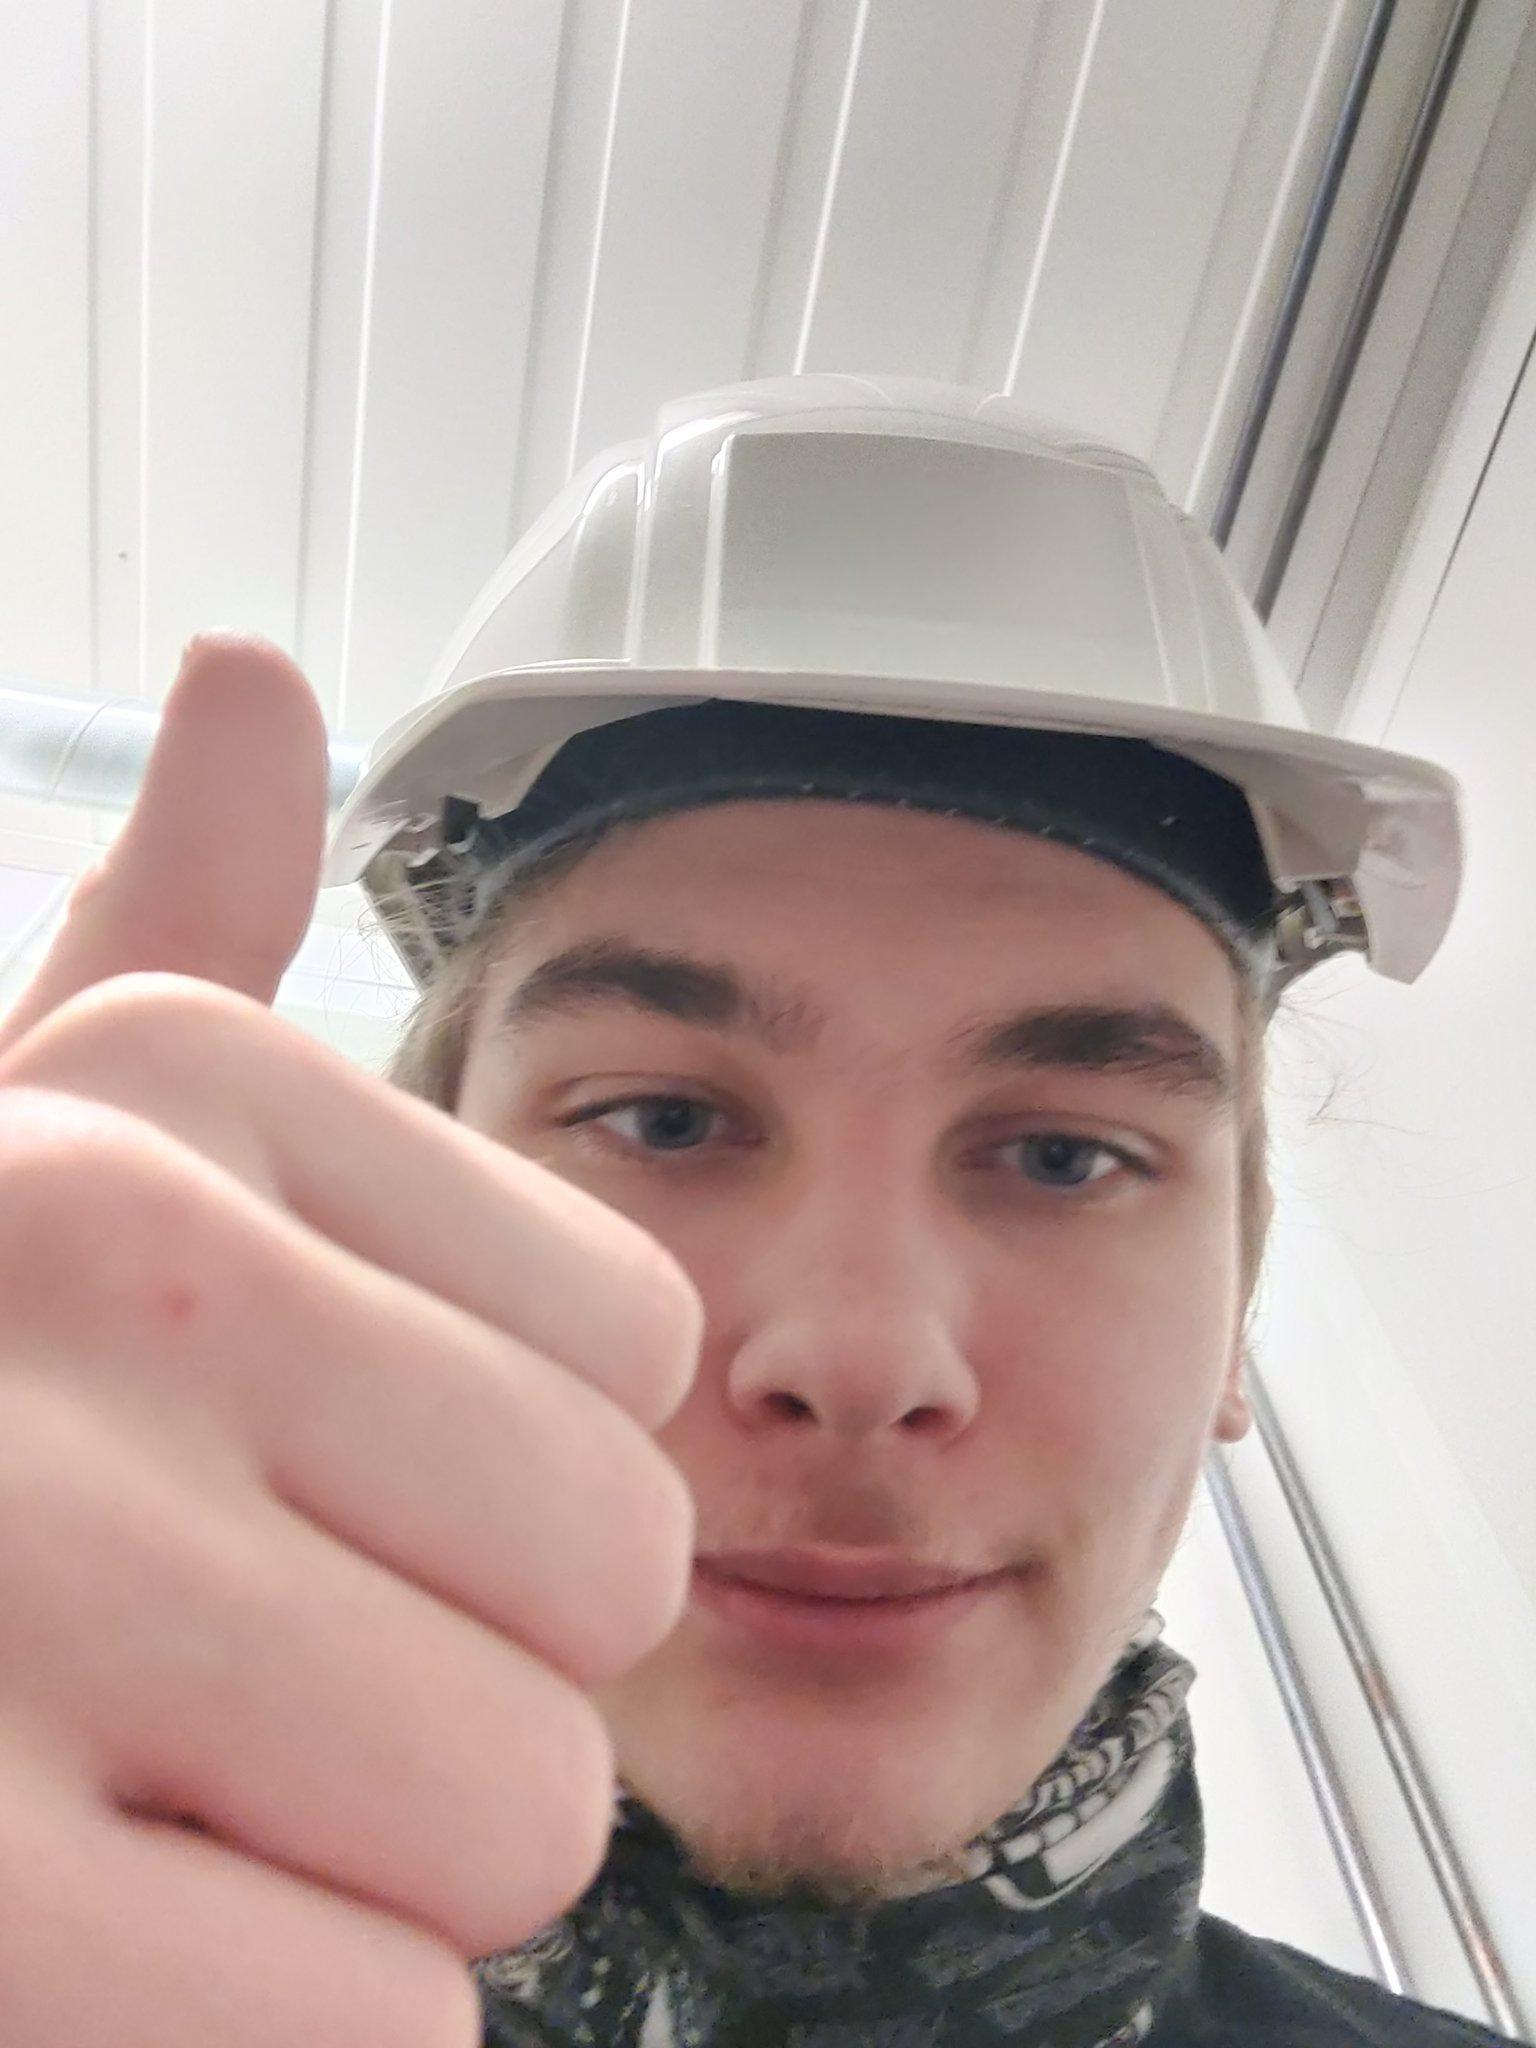helmet: (295, 368, 1468, 989)
